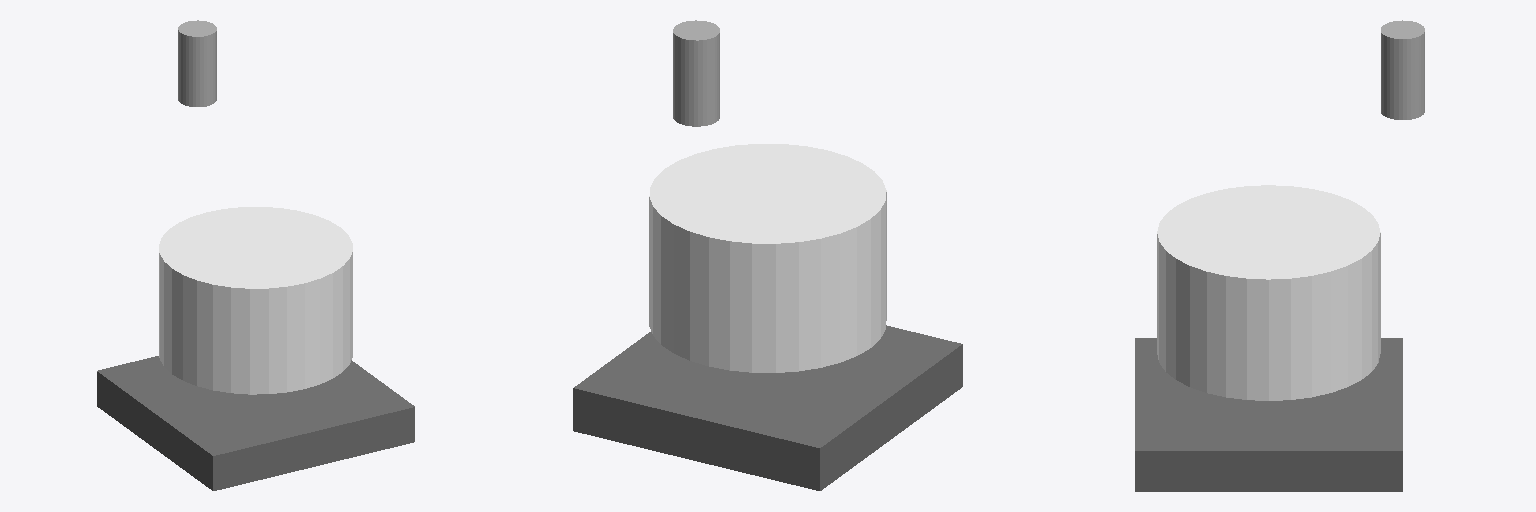
URDF robot description (washbasin):
<?xml version="1.0" encoding="utf-8"?>
<robot name="washbasin">
  <!-- Base Link -->
  <link name="base_link">
    <inertial>
      <origin xyz="0 0 0" rpy="0 0 0"/>
      <mass value="1.0"/>
      <inertia ixx="0.1" ixy="0.0" ixz="0.0" iyy="0.1" iyz="0.0" izz="0.1"/>
    </inertial>
    <visual>
      <origin xyz="0 0 0" rpy="0 0 0"/>
      <geometry>
        <box size="0.6 0.6 0.1"/>
      </geometry>
      <material name="gray">
        <color rgba="0.5 0.5 0.5 1.0"/>
      </material>
    </visual>
    <collision>
      <origin xyz="0 0 0" rpy="0 0 0"/>
      <geometry>
        <box size="0.6 0.6 0.1"/>
      </geometry>
    </collision>
  </link>
  
  <!-- Basin Bowl -->
  <link name="basin_bowl">
    <inertial>
      <origin xyz="0 0 0.15" rpy="0 0 0"/>
      <mass value="0.5"/>
      <inertia ixx="0.05" ixy="0.0" ixz="0.0" iyy="0.05" iyz="0.0" izz="0.05"/>
    </inertial>
    <visual>
      <origin xyz="0 0 0.15" rpy="0 0 0"/>
      <geometry>
        <cylinder radius="0.25" length="0.3"/>
      </geometry>
      <material name="white">
        <color rgba="1.0 1.0 1.0 1.0"/>
      </material>
    </visual>
    <collision>
      <origin xyz="0 0 0.15" rpy="0 0 0"/>
      <geometry>
        <cylinder radius="0.25" length="0.3"/>
      </geometry>
    </collision>
  </link>
  
  <!-- Faucet -->
  <link name="faucet">
    <inertial>
      <origin xyz="0 0.3 0.35" rpy="0 0 0"/>
      <mass value="0.1"/>
      <inertia ixx="0.01" ixy="0.0" ixz="0.0" iyy="0.01" iyz="0.0" izz="0.01"/>
    </inertial>
    <visual>
      <origin xyz="0 0.3 0.35" rpy="0 0 0"/>
      <geometry>
        <cylinder radius="0.05" length="0.2"/>
      </geometry>
      <material name="silver">
        <color rgba="0.75 0.75 0.75 1.0"/>
      </material>
    </visual>
    <collision>
      <origin xyz="0 0.3 0.35" rpy="0 0 0"/>
      <geometry>
        <cylinder radius="0.05" length="0.2"/>
      </geometry>
    </collision>
  </link>
  
  <!-- Joints -->
  <joint name="base_to_basin" type="fixed">
    <parent link="base_link"/>
    <child link="basin_bowl"/>
    <origin xyz="0 0 0.15" rpy="0 0 0"/>
  </joint>
  <joint name="basin_to_faucet" type="fixed">
    <parent link="basin_bowl"/>
    <child link="faucet"/>
    <origin xyz="0 0 0.35" rpy="0 0 0"/>
  </joint>
</robot>

--- Facts derived from the render (not from the file) ---
Views: 3 orthographic renders of the robot side by side, from view 1: azimuth 30°, elevation 25°; view 2: azimuth 150°, elevation 25°; view 3: azimuth 270°, elevation 25°.
Model washbasin with 3 links and 2 joints (2 fixed), rooted at base_link, posed all joints at 0.
Links seen in each view (by area): view 1: basin_bowl, base_link, faucet; view 2: basin_bowl, base_link, faucet; view 3: basin_bowl, base_link, faucet.
Link boxes in pixels (bbox=[...]): basin_bowl: bbox=[159, 207, 352, 394]; base_link: bbox=[97, 356, 414, 490]; faucet: bbox=[178, 20, 216, 106]; basin_bowl: bbox=[649, 144, 886, 372]; base_link: bbox=[573, 325, 962, 490]; faucet: bbox=[673, 20, 719, 126]; basin_bowl: bbox=[1157, 185, 1380, 400]; base_link: bbox=[1135, 338, 1402, 491]; faucet: bbox=[1381, 20, 1424, 119].
Size in the robot's own frame: 0.6 by 0.65 by 1 metres.
Geometry: primitives only (box / cylinder / sphere), no mesh files.